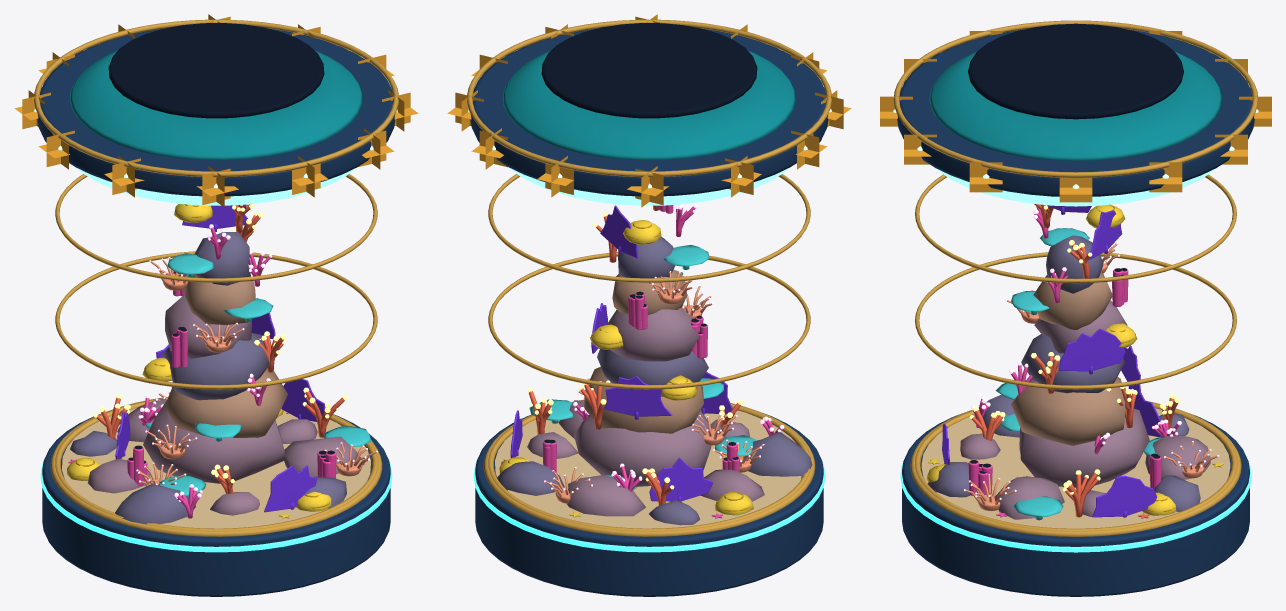
Rendered from aqua_reef_column.glb.
3 views of the same model, side by side, from view 1: azimuth 30°, elevation 25°; view 2: azimuth 150°, elevation 25°; view 3: azimuth 270°, elevation 25° (orthographic).
Parts seen in each view (by area): view 1: ReefCrown, Reef, ReefBase; view 2: ReefCrown, Reef, ReefBase; view 3: ReefCrown, Reef, ReefBase.
Part boxes in pixels (left/top/right/bottom): ReefCrown: left=14, top=14, right=418, bottom=207; Reef: left=67, top=204, right=377, bottom=524; ReefBase: left=40, top=174, right=392, bottom=596; ReefCrown: left=447, top=14, right=851, bottom=207; Reef: left=497, top=204, right=812, bottom=525; ReefBase: left=473, top=174, right=825, bottom=596; ReefCrown: left=880, top=20, right=1271, bottom=206; Reef: left=926, top=204, right=1223, bottom=520; ReefBase: left=900, top=174, right=1251, bottom=596.
Bounding box in the file's own units: 7.99 × 10.28 × 7.99.
